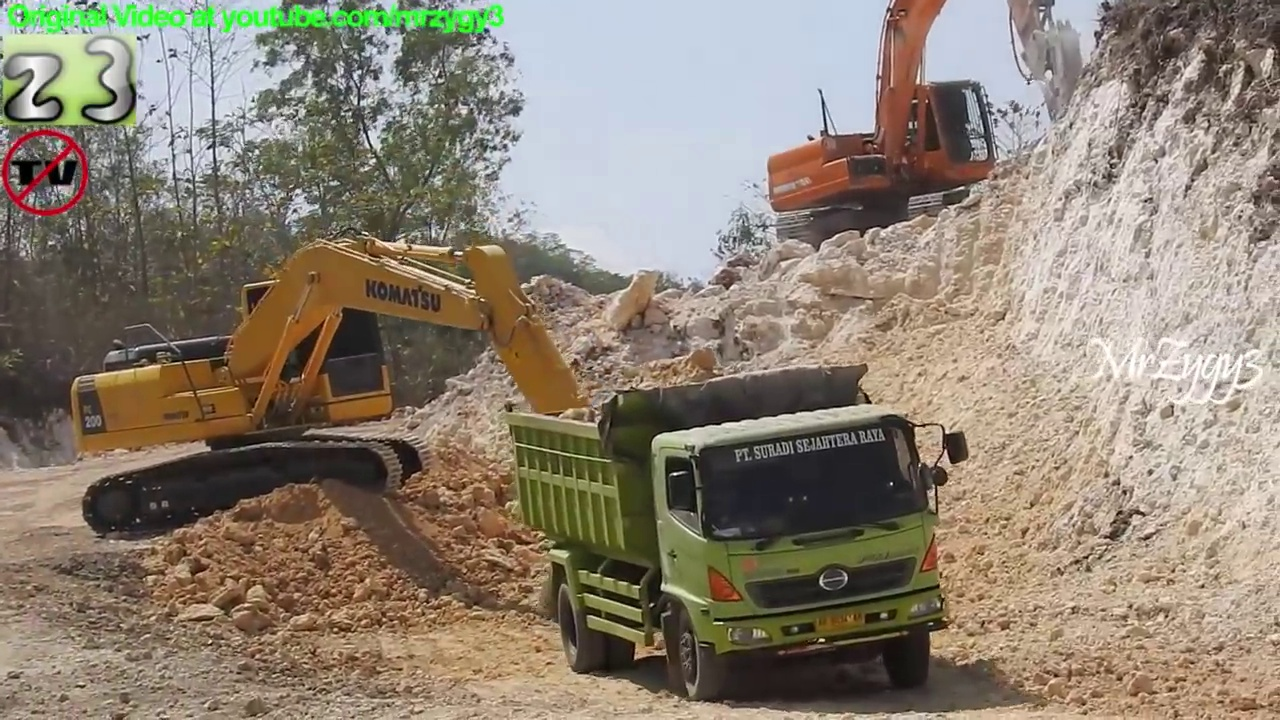excavator: (60, 221, 678, 628), (757, 1, 1092, 259)
truck: (500, 354, 974, 705)
